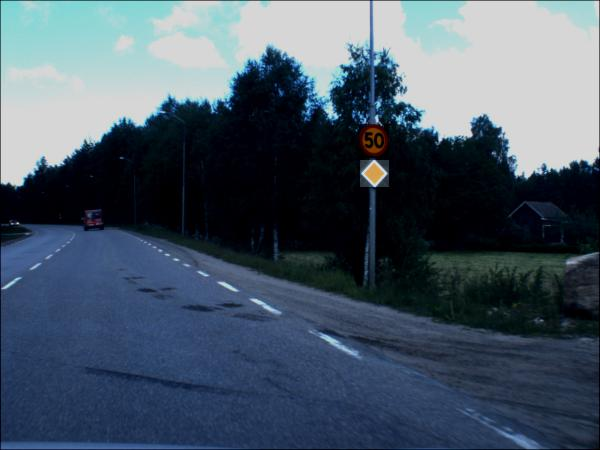50_SIGN: (359, 125, 391, 160)
PRIORITY_ROAD: (361, 161, 391, 189)
